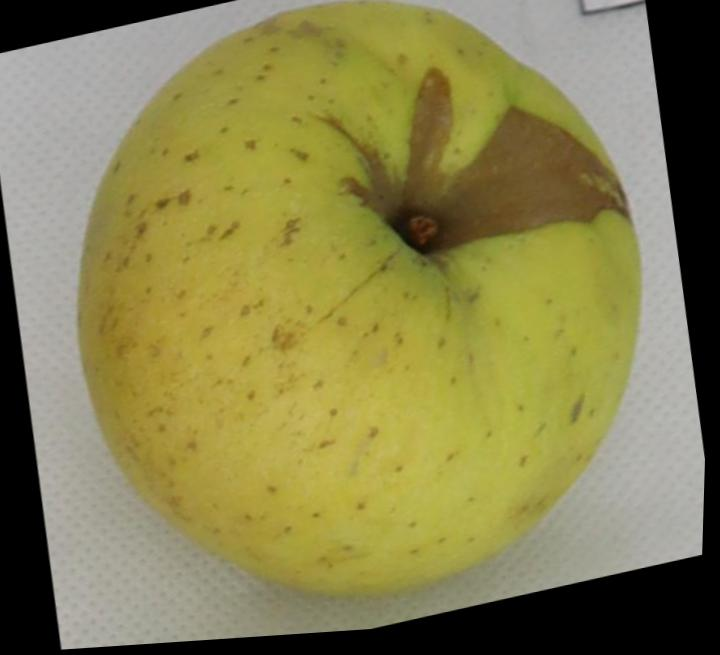apple: (80, 0, 640, 591)
bruise_discoloration: (346, 67, 629, 253)
